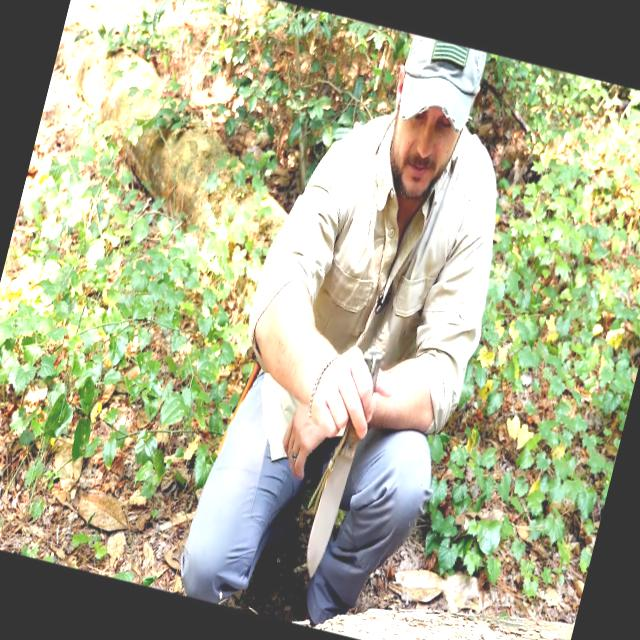knife: (282, 345, 385, 590)
